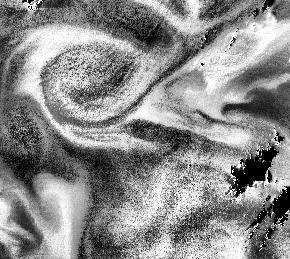AE: (19, 25, 154, 136)
